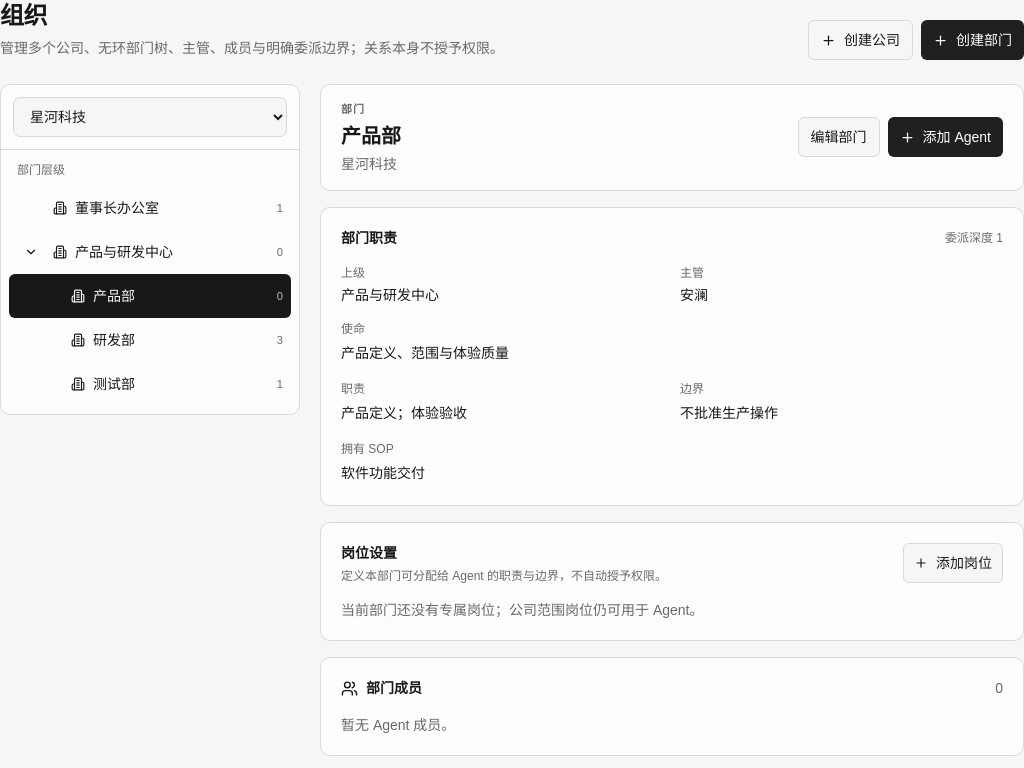
组织页 › 编辑部门时只读展示所属公司，并只允许从本部门成员选择主管
The image size is (1024, 768).
What coordinates should you click on to do the following:
click the button "编辑部门"
I would click on:
 (838, 137)
Its box is [798, 117, 880, 157].
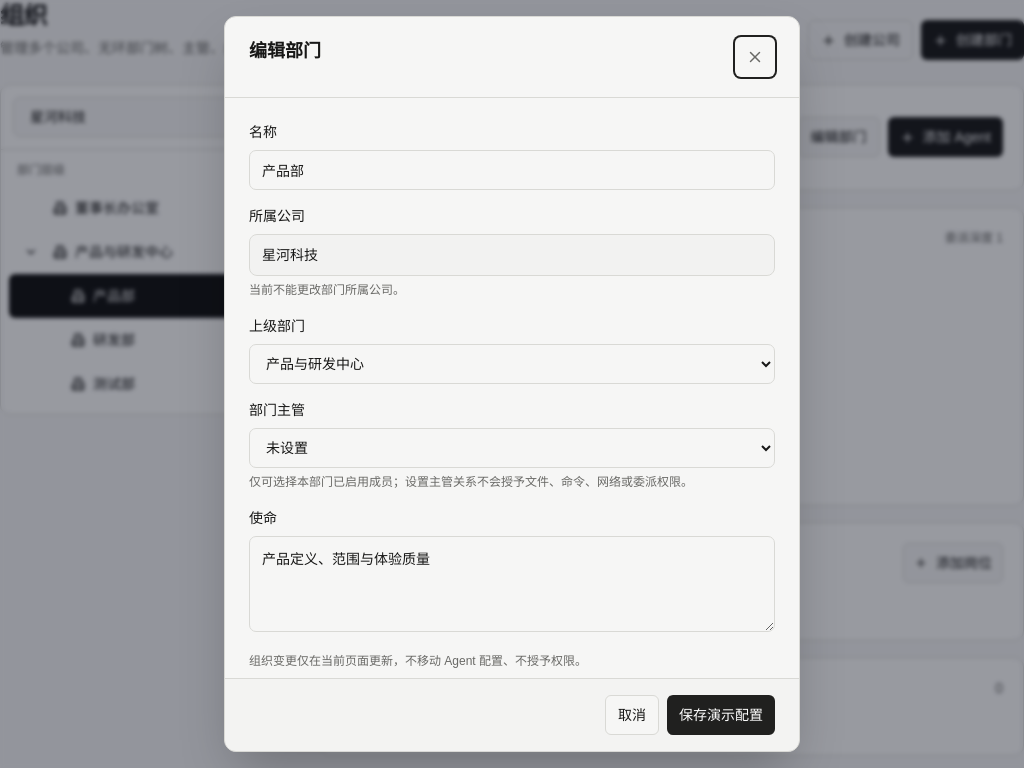
Result: the text "所属公司" is shown at [249, 208, 305, 224]
Result: the text "星河科技" is shown at [249, 234, 775, 276]
Result: the text "仅可选择本部门已启用成员；设置主管关系不会授予文件、命令、网络或委派权限。" is shown at [249, 475, 693, 489]
